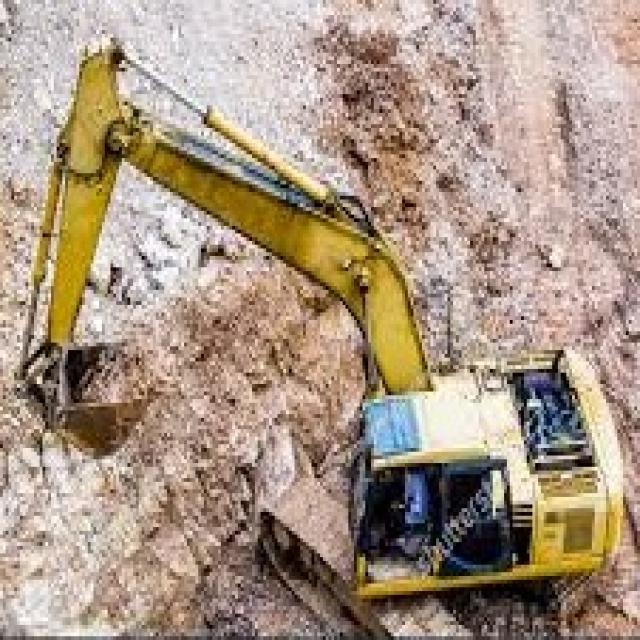excavator: (268, 362, 622, 632)
